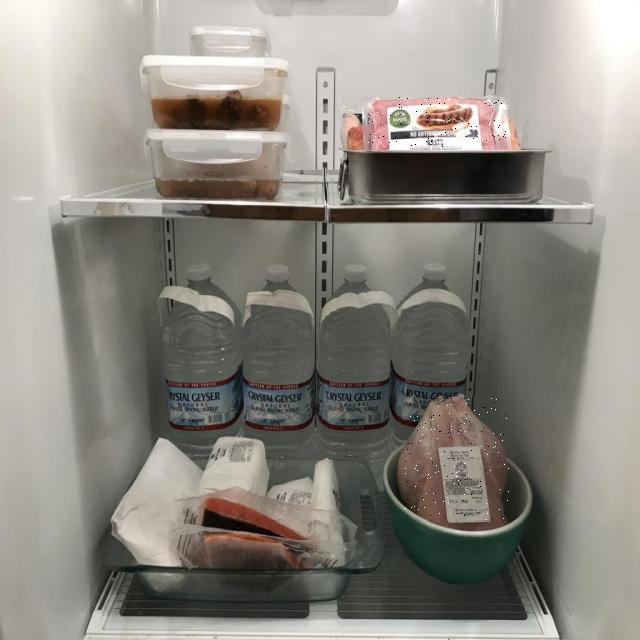beef: (368, 98, 509, 148)
chicken: (406, 398, 510, 522)
